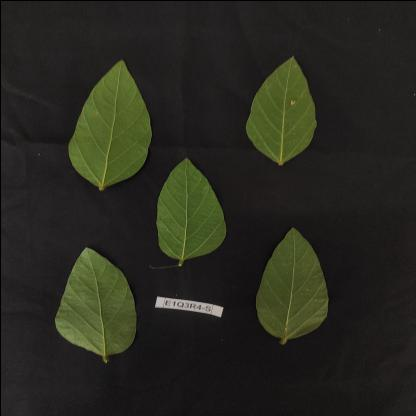label: (146, 295, 226, 330)
leaflets: (64, 55, 156, 204), (238, 47, 341, 170), (54, 246, 152, 366), (139, 148, 230, 271), (256, 214, 338, 344)
